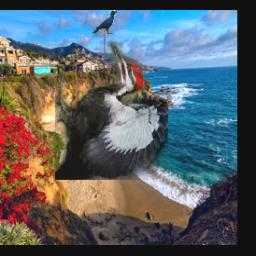Crow: (92, 10, 117, 34)
Woodpecker: (56, 42, 169, 181)
